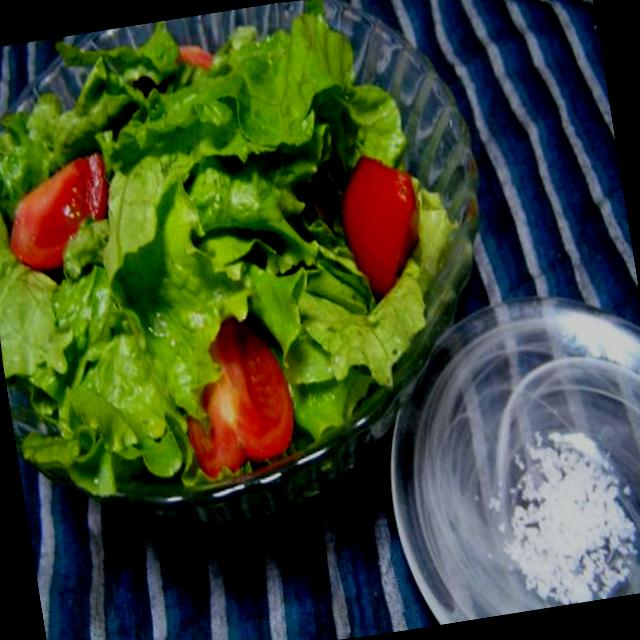Green Salad: (0, 0, 472, 501)
